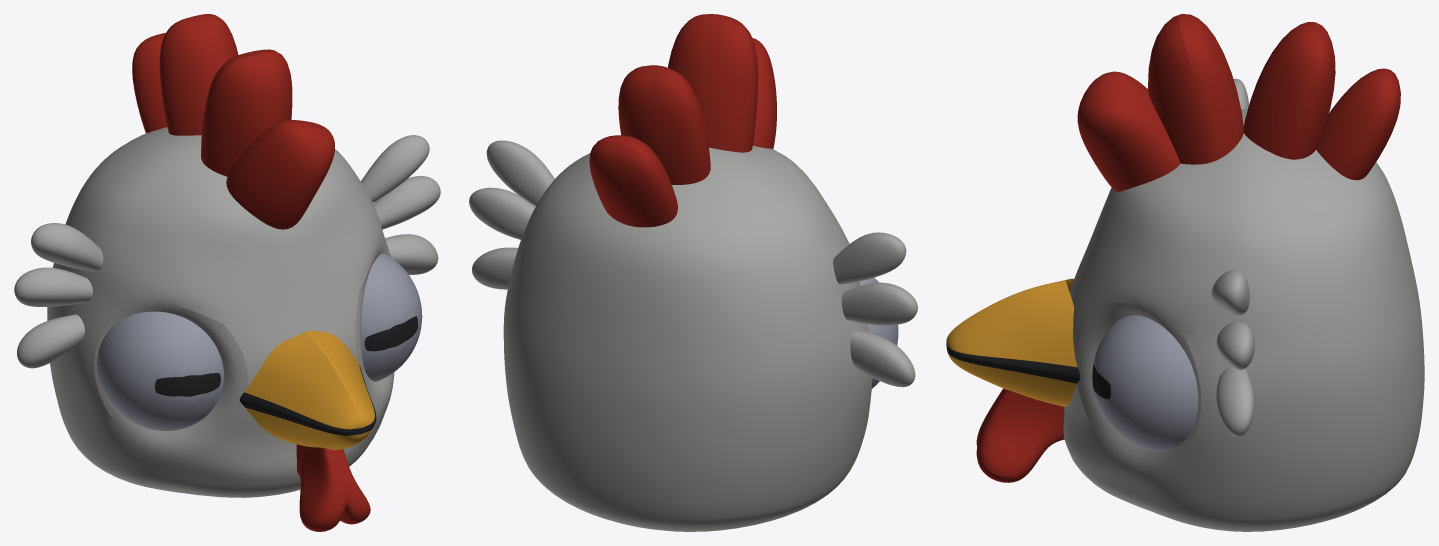
The model's file is Goro_Idle.fbx.
The picture shows the model from 3 angles, left to right: view 1: azimuth 30°, elevation 25°; view 2: azimuth 150°, elevation 25°; view 3: azimuth 270°, elevation 25°; orthographic projection. The views are drawn at different scales.
Visible parts, largest first — view 1: Chicken_Blob; view 2: Chicken_Blob; view 3: Chicken_Blob.
Part boxes in pixels (box(x1,y1,x2,y2)): Chicken_Blob: box(14, 14, 440, 531); Chicken_Blob: box(469, 14, 917, 531); Chicken_Blob: box(946, 14, 1424, 531).
Bounding box in the file's own units: 224 × 219 × 200.
